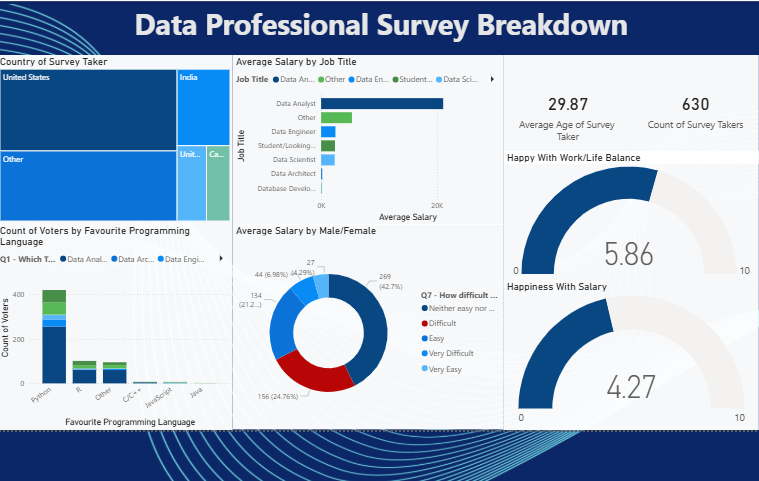

This screenshot's page, from the dashboard's own definition file:
{"tool":"powerbi","page":{"name":"Page 1","canvas":[1280,720],"ordinal":0},"visuals":[{"type":"textbox","box":[10.1,0,1269.9,89],"z":0},{"type":"card","fields":{"Values":["Count(Data Professional Survey.Unique ID)"]},"box":[1066.7,90,213.3,183.3],"z":1000},{"type":"card","fields":{"Values":["Avg(Data Professional Survey.Q10 - Current Age)"]},"box":[851.7,90,215,183.3],"z":2000},{"type":"barChart","title":"Average Salary by Job Title","fields":{"Category":["Data Professional Survey.Q1 - Which Title Best Fits your Current Role?.1"],"Y":["Sum(Data Professional Survey.Average Salary)"],"Series":["Data Professional Survey.Q1 - Which Title Best Fits your Current Role?.1"]},"box":[396.7,90,455,285],"z":3000},{"type":"columnChart","title":"Count of Voters by Favourite Programming Language","fields":{"Category":["Data Professional Survey.Q5 - Favorite Programming Language.1"],"Y":["CountNonNull(Data Professional Survey.Q5 - Favorite Programming Language.1)"],"Series":["Data Professional Survey.Q1 - Which Title Best Fits your Current Role?.1"]},"box":[0,374.6,396.4,346],"z":4000},{"type":"treemap","title":"Country of Survey Taker","fields":{"Group":["Data Professional Survey.Q11 - Which Country do you live in?.1"],"Values":["CountNonNull(Data Professional Survey.Q11 - Which Country do you live in?.1)"]},"box":[0,90.7,396.4,283.9],"z":5000},{"type":"gauge","title":"Happy With Work/Life Balance","fields":{"Y":["Avg(Data Professional Survey.Q6 - How Happy are you in your Current Position with the following? (Coworkers))"],"MinValue":["Min(Data Professional Survey.Q6 - How Happy are you in your Current Position with the following? (Coworkers))1"],"MaxValue":["Max(Data Professional Survey.Q6 - How Happy are you in your Current Position with the following? (Coworkers))2"]},"box":[851.7,251.7,428.3,216.7],"z":6000},{"type":"gauge","title":"Happiness With Salary","fields":{"Y":["Avg(Data Professional Survey.Q6 - How Happy are you in your Current Position with the following? (Salary))"],"MinValue":["Min(Data Professional Survey.Q6 - How Happy are you in your Current Position with the following? (Salary))"],"MaxValue":["Max(Data Professional Survey.Q6 - How Happy are you in your Current Position with the following? (Salary))1"]},"box":[851.7,468.7,428.3,252],"z":7000},{"type":"donutChart","title":"Average Salary by Male/Female","fields":{"Category":["Data Professional Survey.Q7 - How difficult was it for you to break into Data?"],"Y":["CountNonNull(Data Professional Survey.Q7 - How difficult was it for you to break into Data?)"]},"box":[396.7,375,455,345],"z":8000}]}

Visuals, with their boxes on the page's 1280x720 design canvas (x1, y1, x2, y2). These are canvas units, not pixel positions in the 759x481 screenshot, which may show the page scaled, cropped or inside an application window:
textbox: select_region(10, 0, 1280, 89)
card - Count(Data Professional Survey.Unique ID): select_region(1067, 90, 1280, 273)
card - Avg(Data Professional Survey.Q10 - Current Age): select_region(852, 90, 1067, 273)
"Average Salary by Job Title" barChart: select_region(397, 90, 852, 375)
"Count of Voters by Favourite Programming Language" columnChart: select_region(0, 375, 396, 721)
"Country of Survey Taker" treemap: select_region(0, 91, 396, 375)
"Happy With Work/Life Balance" gauge: select_region(852, 252, 1280, 468)
"Happiness With Salary" gauge: select_region(852, 469, 1280, 721)
"Average Salary by Male/Female" donutChart: select_region(397, 375, 852, 720)
